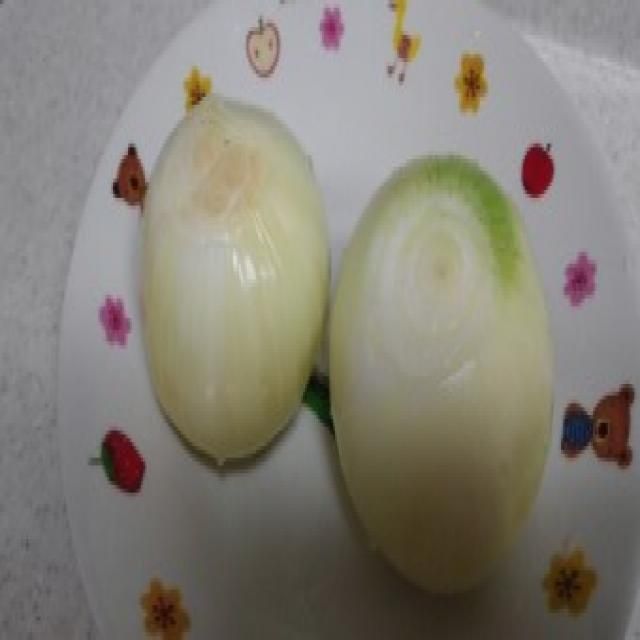Onion: (331, 154, 556, 599), (137, 95, 327, 466)
